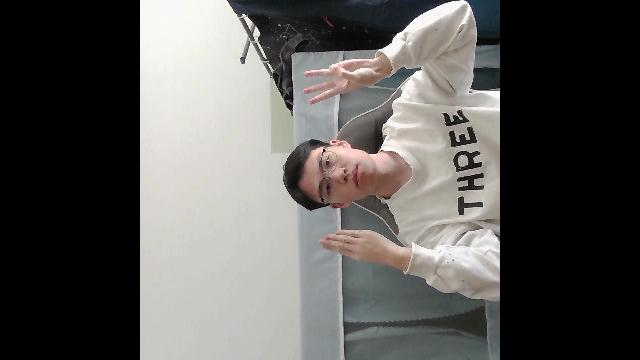four: (319, 228, 389, 262)
three: (303, 56, 378, 105)
